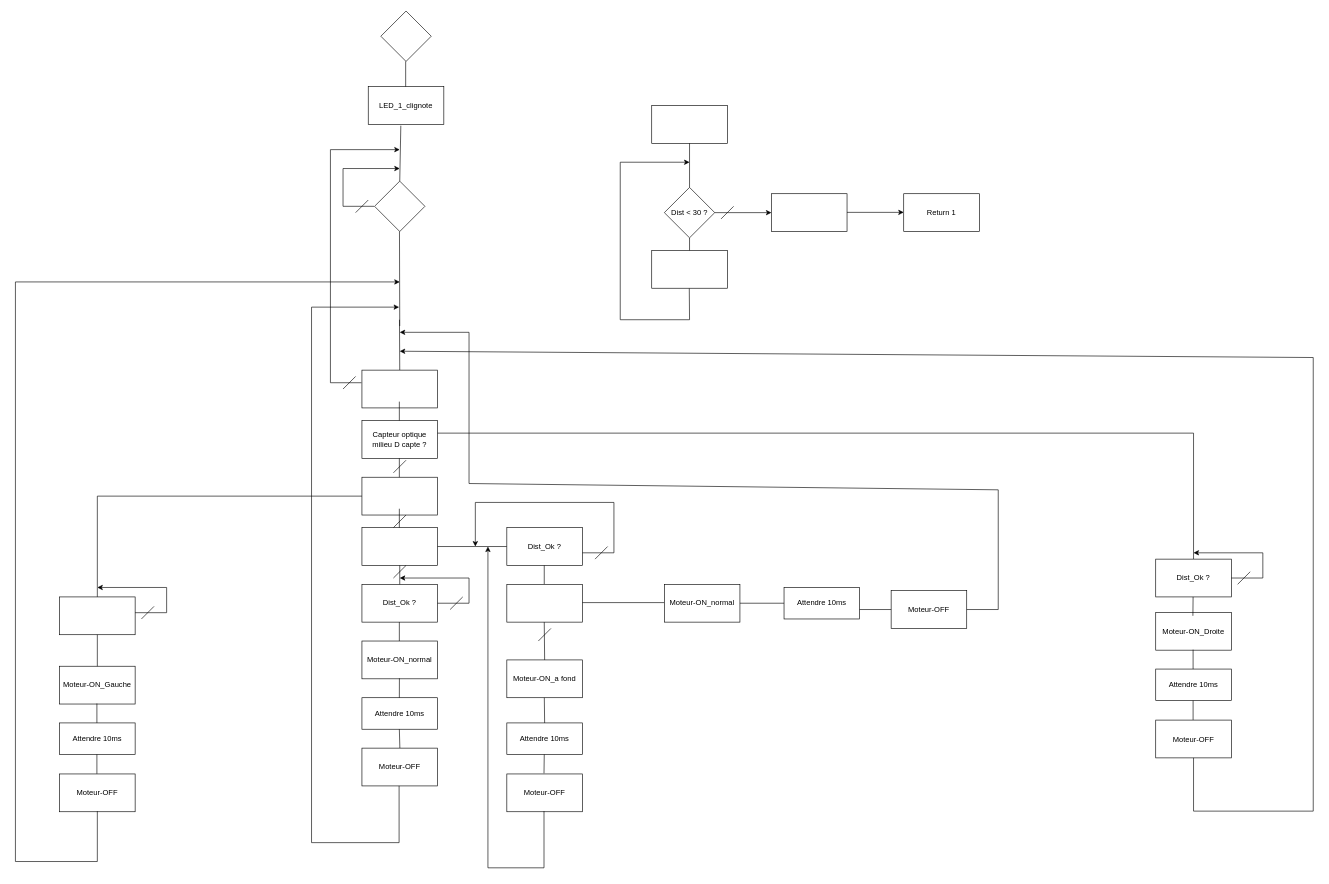
The diagram is 1329 pixels wide and 884 high, and some of its shapes have lost their labels. The shapes that lost their labels are listed below. From the top down, each one's centre as x and y in pixels, then its label:
point (405, 35): Start
point (689, 124): Dist_OK
point (399, 206): Micro-Capte ?
point (809, 212): Led_OFF
point (689, 269): Led_ON
point (399, 388): Capteur optique milieu capte ?
point (399, 496): Capteur optique milieu G capte ?
point (399, 546): Capteur extreme droite capte ?
point (97, 615): Dist_Ok ==1 ?
point (544, 603): Capteur _extreme gauche capte ?
